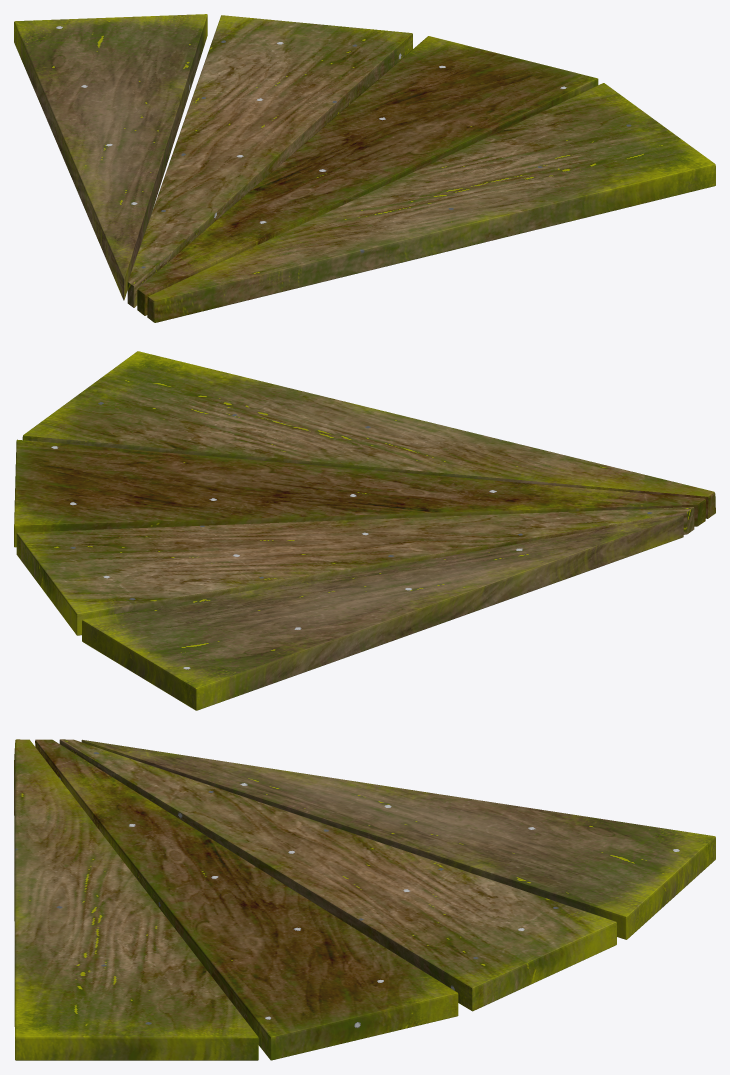
Rendered from PNW Pathway_Curve_72_L_No Grip.glb.
3 renders of one model, top to bottom at view 1: azimuth 30°, elevation 25°; view 2: azimuth 150°, elevation 25°; view 3: azimuth 270°, elevation 25°, orthographic. The views are drawn at different scales.
Parts seen in each view (by area): view 1: Curve_72_L_No Grip; view 2: Curve_72_L_No Grip; view 3: Curve_72_L_No Grip.
Part boxes in pixels (left/top/right/bottom): Curve_72_L_No Grip: left=14, top=14, right=715, bottom=322; Curve_72_L_No Grip: left=14, top=351, right=715, bottom=710; Curve_72_L_No Grip: left=14, top=739, right=715, bottom=1060.
Bounding box in the file's own units: 1.52 × 0.0577 × 1.51.
1 material, 1 textured.
